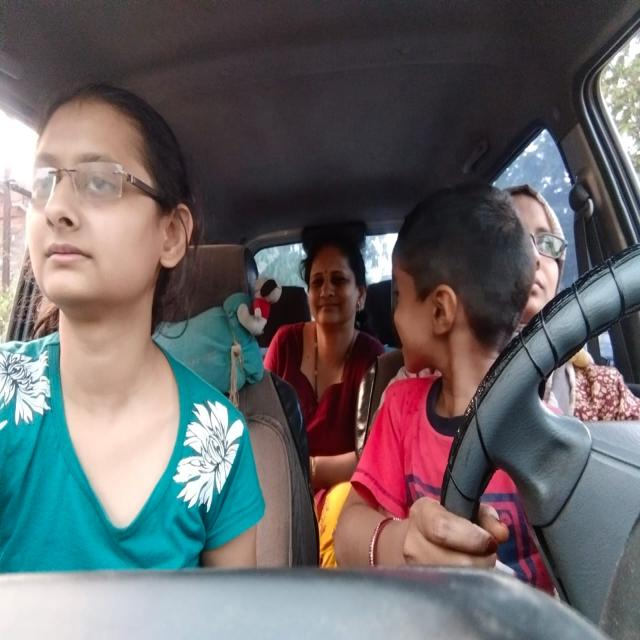child: (390, 188, 529, 398)
person: (26, 77, 192, 343), (514, 170, 578, 325), (306, 230, 369, 335)
